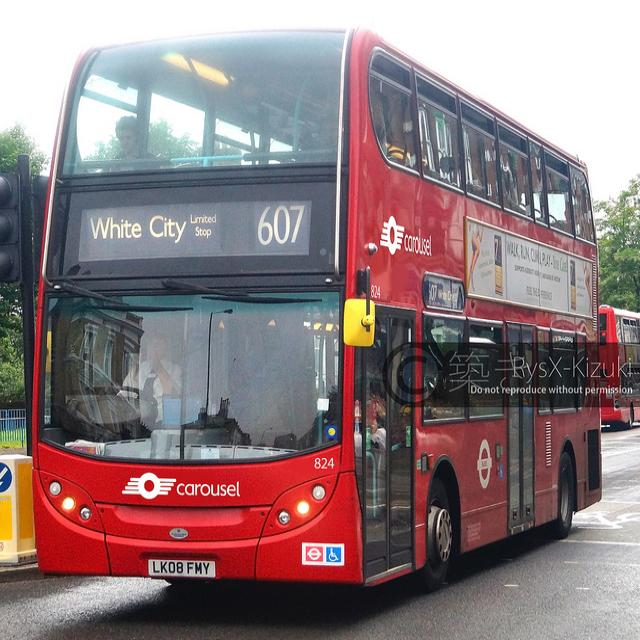Vehicle: (23, 28, 605, 588), (600, 308, 640, 429)
